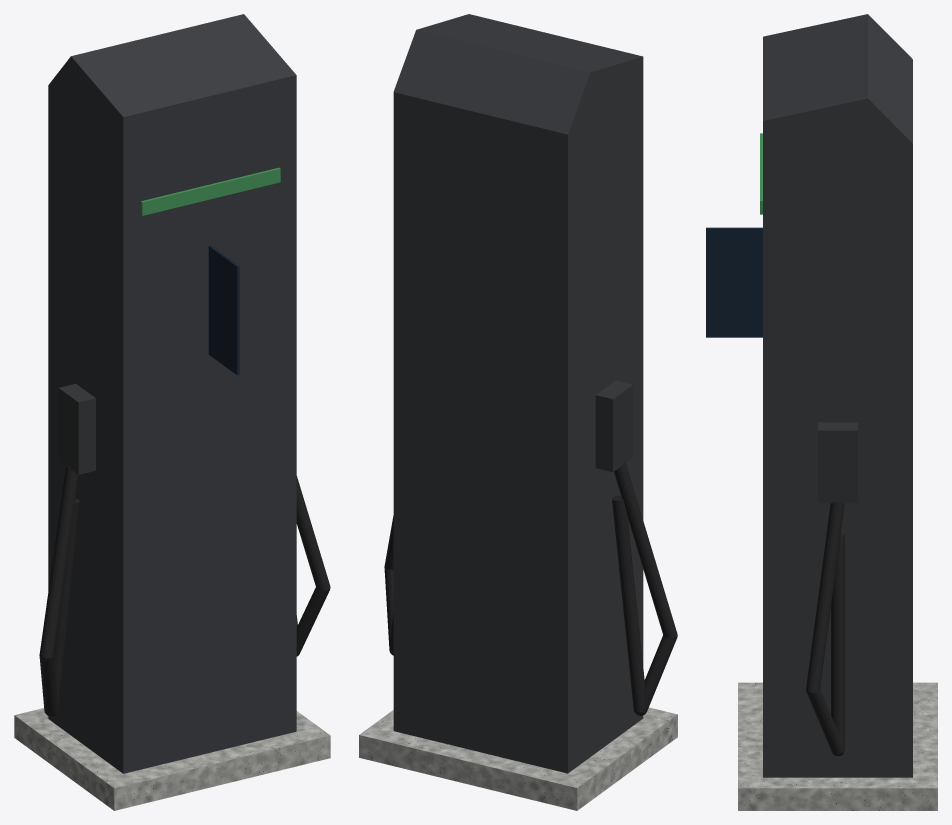
The picture shows the model from 3 angles, left to right: view 1: azimuth 30°, elevation 25°; view 2: azimuth 150°, elevation 25°; view 3: azimuth 270°, elevation 25°; orthographic projection.
Visible parts, largest first — view 1: baseOffset=0;depth=0.3;height=1.5;material=steel_dark;power= (×6); view 2: baseOffset=0;depth=0.3;height=1.5;material=steel_dark;power= (×4); view 3: baseOffset=0;depth=0.3;height=1.5;material=steel_dark;power= (×5).
Boxes of the visible parts, x1,y1,x2,y2 form: baseOffset=0;depth=0.3;height=1.5;material=steel_dark;power= (×6): (14, 14, 330, 810); baseOffset=0;depth=0.3;height=1.5;material=steel_dark;power= (×4): (359, 14, 677, 810); baseOffset=0;depth=0.3;height=1.5;material=steel_dark;power= (×5): (706, 14, 937, 810).
Bounding box in the file's own units: 0.6686 × 0.464 × 1.55.
Materials: 6 (1 with a texture image).
